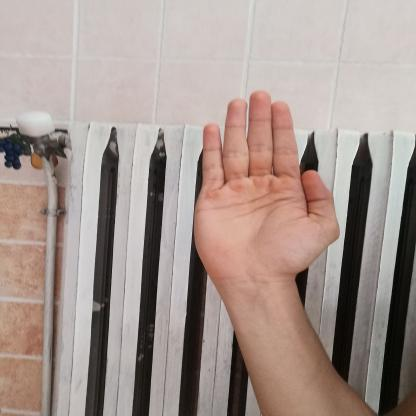SEEN: (182, 84, 353, 292)
